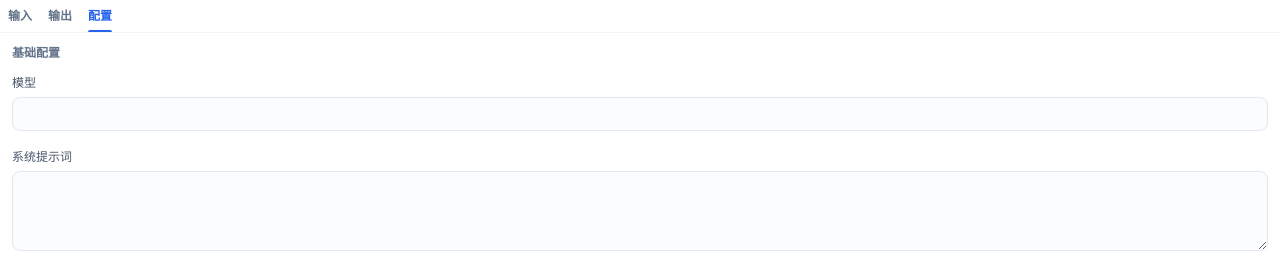
Test case: NodeConfigTabs › LLM 输入页默认展示 Prompt 模板文本框
The image size is (1280, 268).
Click the tab "输入" at (20, 20), box [8,8,32,32]
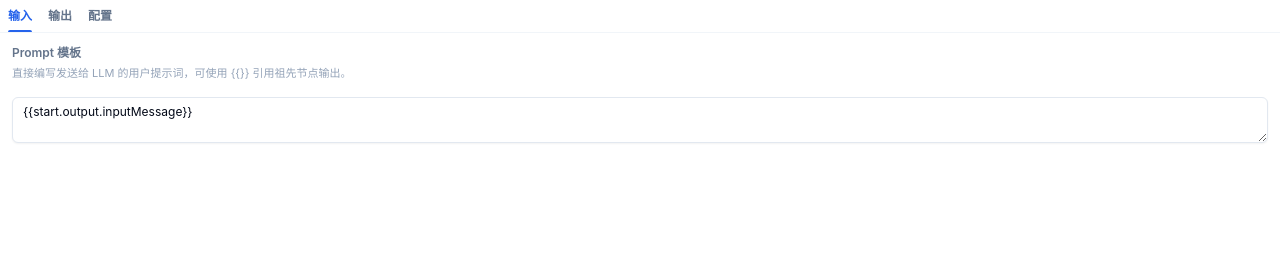
Expected: the heading "Prompt 模板" is shown, [12,45,81,60]
Expected: the text box showing "{{start.output.inputMessage}}" is shown, [12,97,1268,143]
